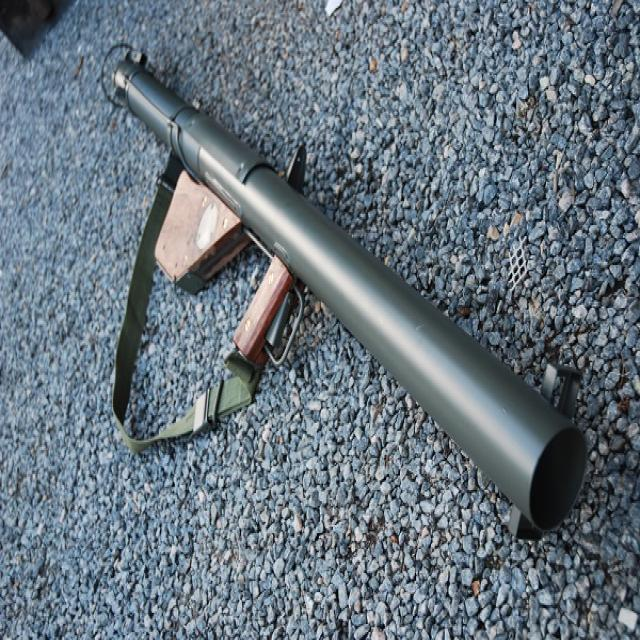bazooka: (96, 37, 593, 548)
